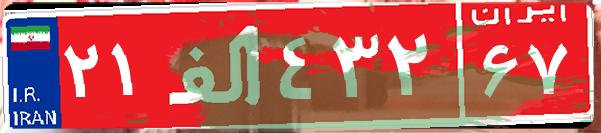1: (110, 28, 158, 105)
2: (385, 28, 445, 110), (57, 26, 110, 107)
3: (330, 28, 385, 110)
4: (273, 28, 330, 110)
6: (475, 38, 525, 113)
7: (525, 38, 570, 115)
الف: (158, 15, 273, 115)
